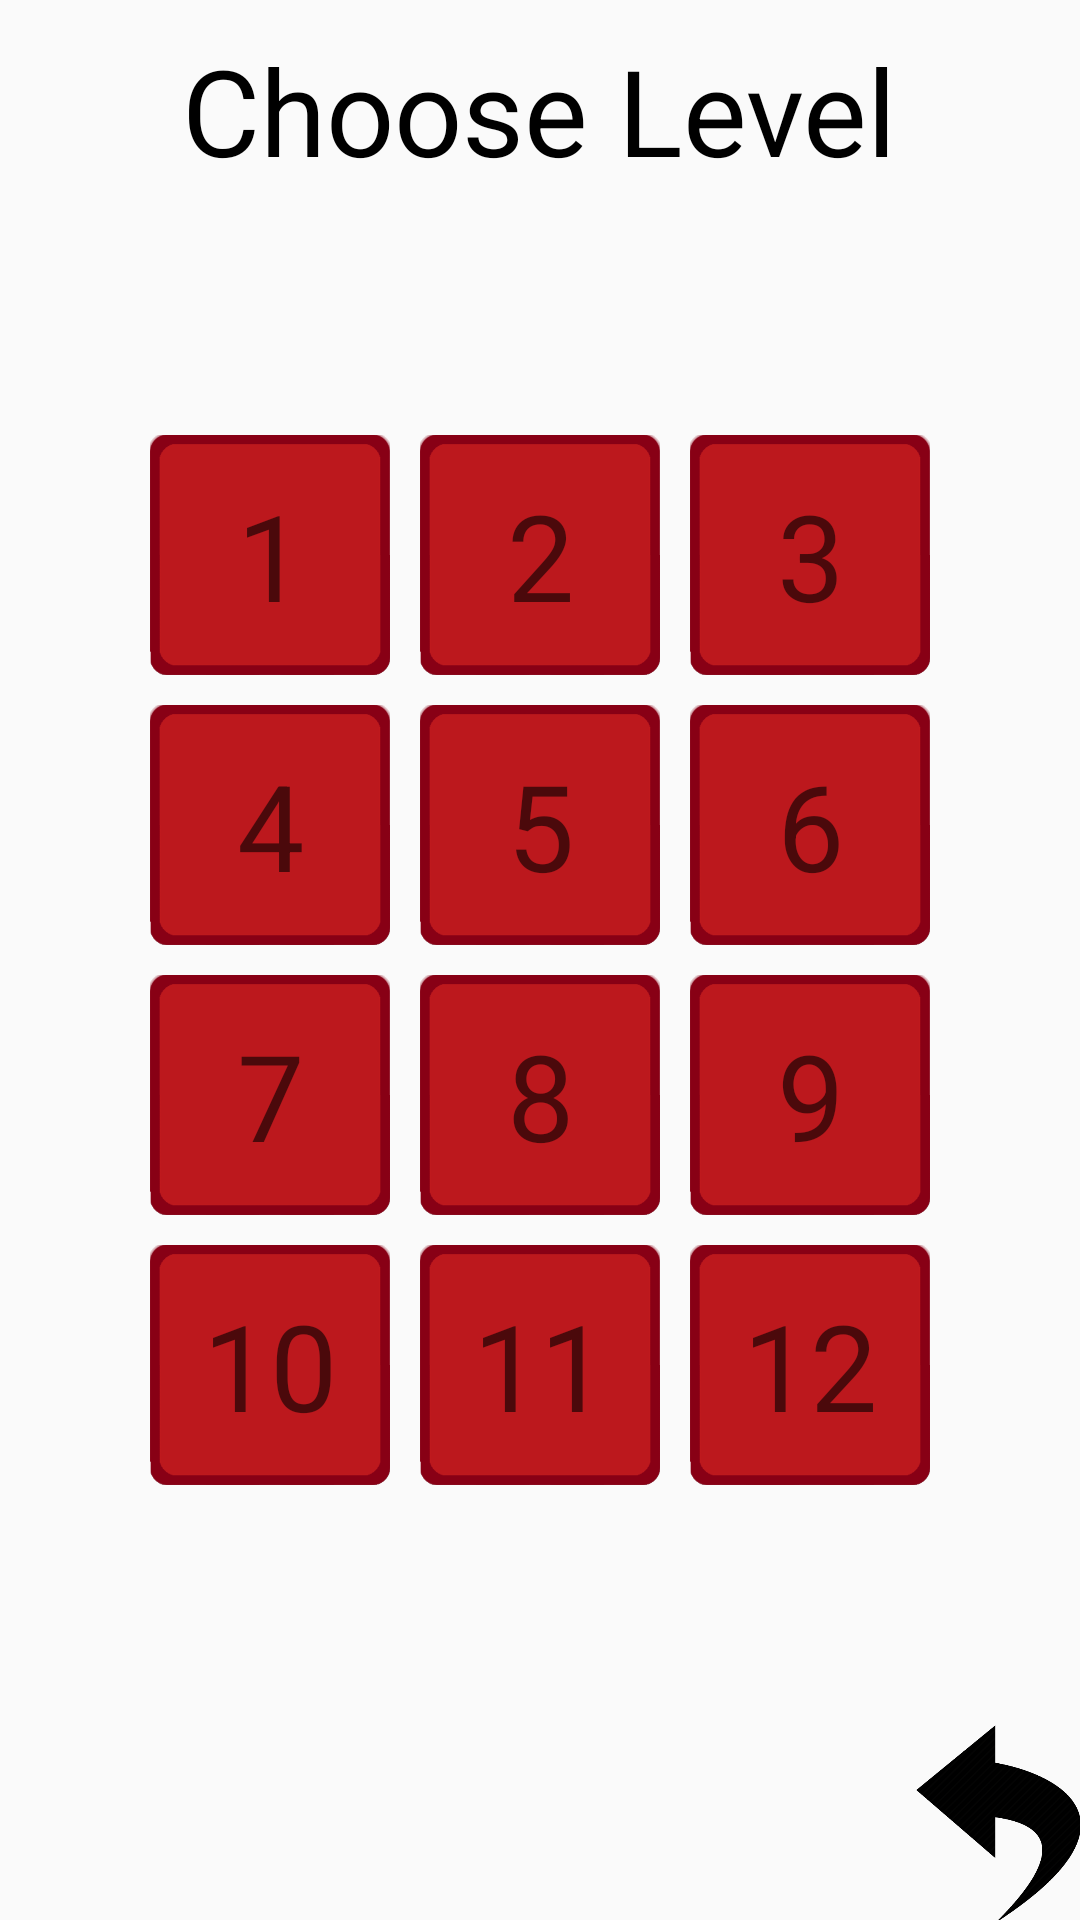

Icons on this 1080x1920 Android screen, each with the point to tap as (x=x, y=y):
undo: (x=998, y=1822)
